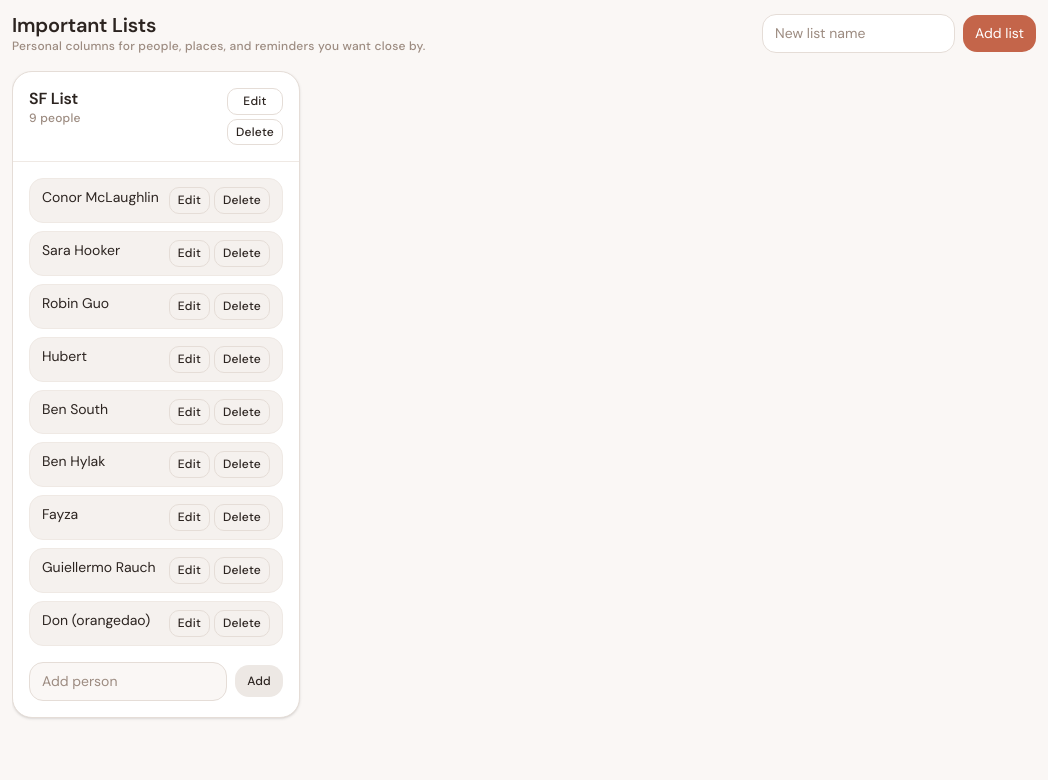
Test: ImportantLists › allows adding a person to an existing list
Type "Jane Doe" into the field named "item for sf list" at (128, 681), box [29, 662, 227, 701]
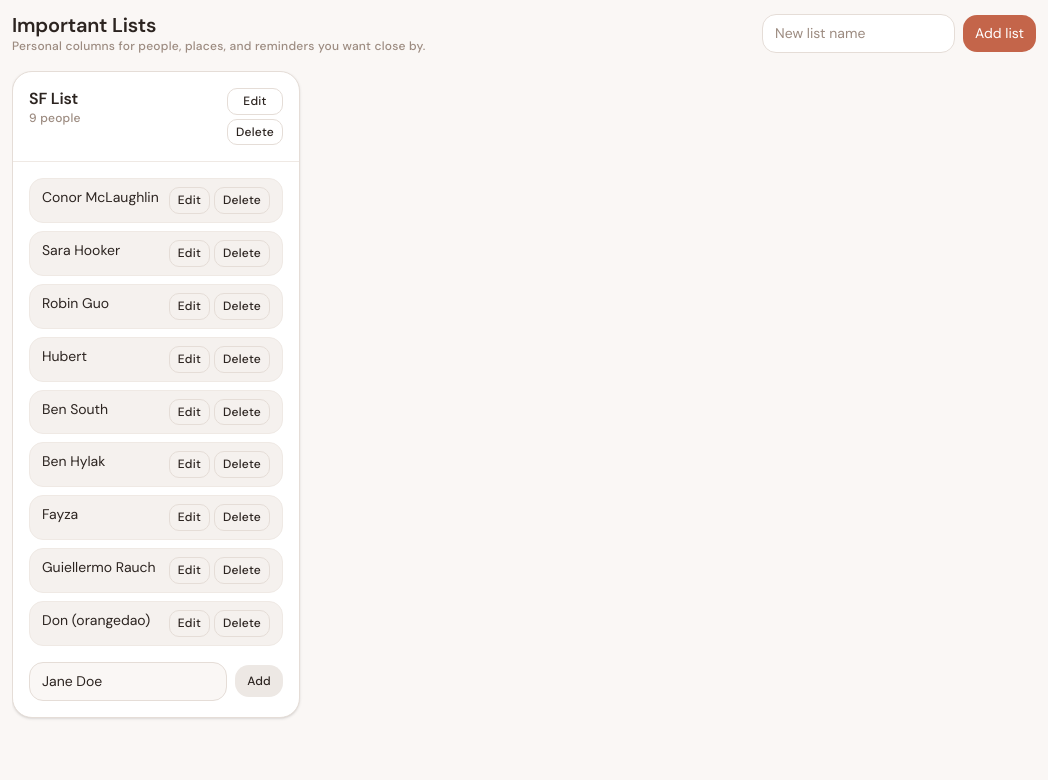
Click the button with aria-label "add item to sf list" at (259, 681), box [235, 665, 283, 698]
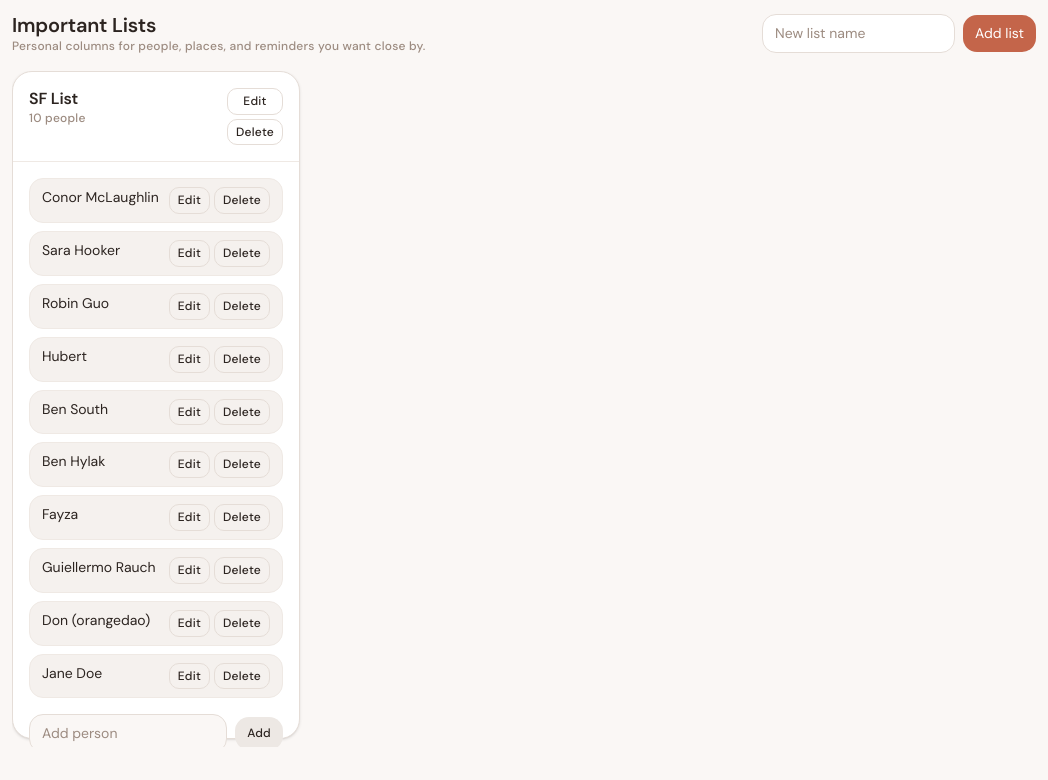
Expected: the text "Jane Doe" is shown, [42, 663, 102, 684]
